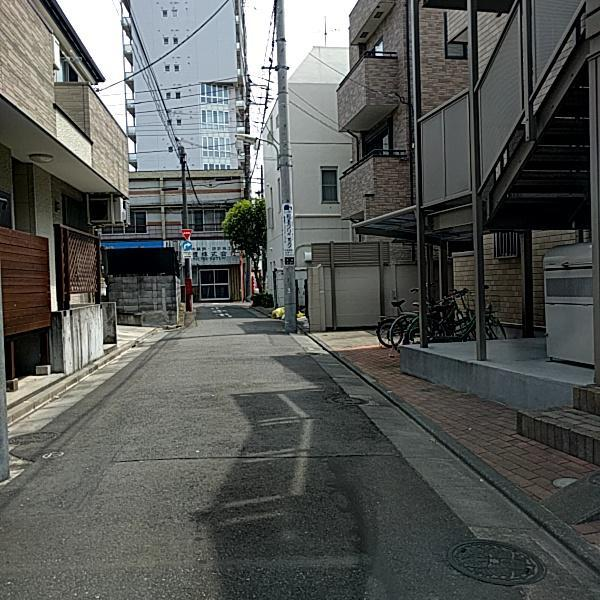D10: (115, 443, 401, 465)
D50: (444, 532, 545, 591), (12, 428, 55, 445), (324, 393, 367, 409)
